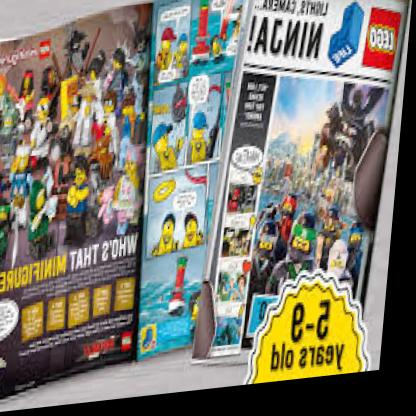Paper: (0, 0, 410, 413)
